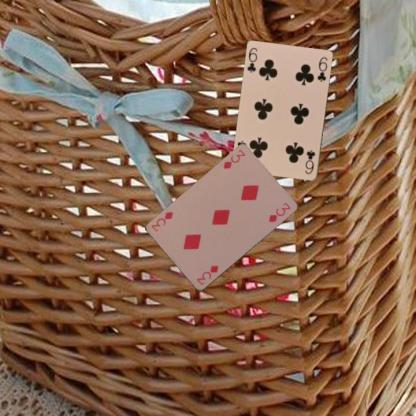3d: (194, 262, 220, 286), (220, 147, 246, 170)
6c: (245, 45, 259, 74), (302, 148, 316, 176)
